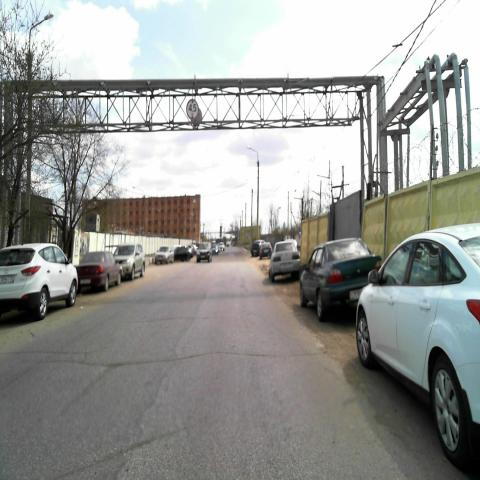3_13: (186, 98, 198, 120)
